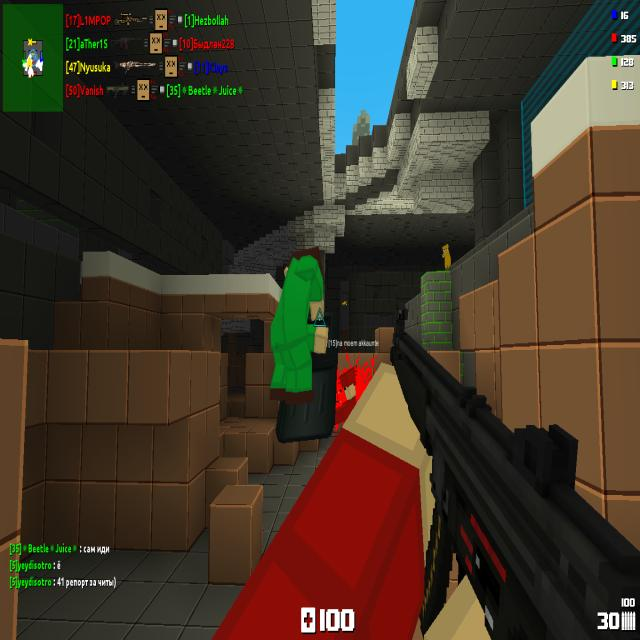enemy: (268, 242, 330, 403), (441, 243, 451, 271), (342, 300, 347, 306)
